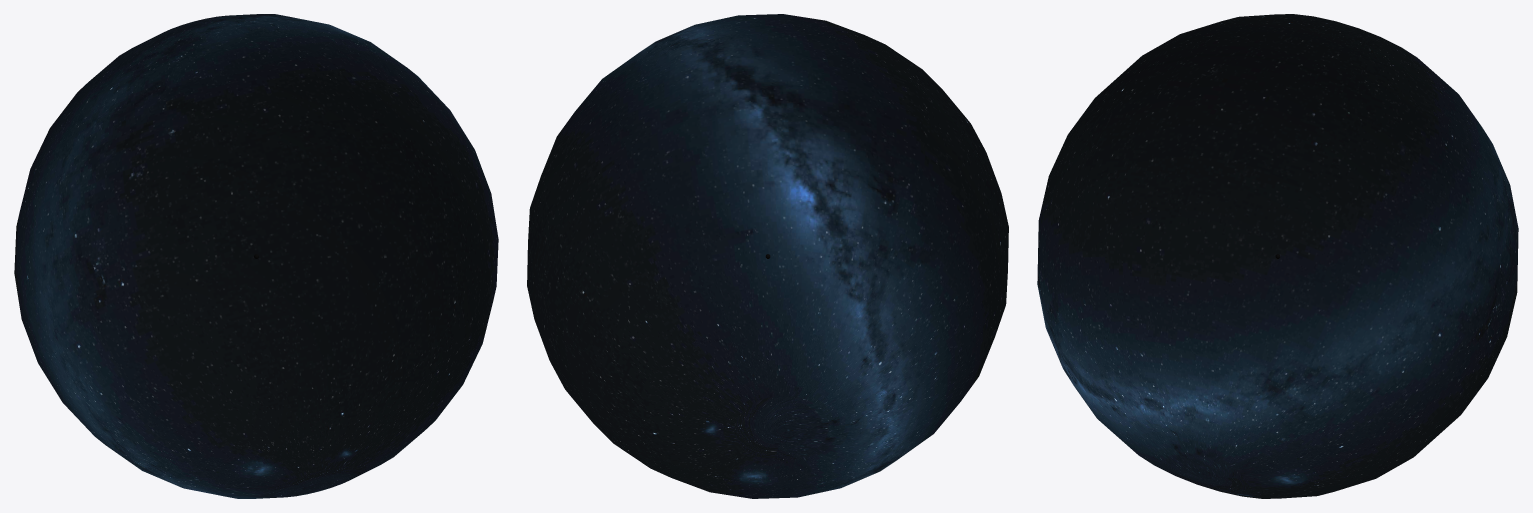
Rendered from Sky3.glb.
3 renders of one model, left to right at view 1: azimuth 30°, elevation 25°; view 2: azimuth 150°, elevation 25°; view 3: azimuth 270°, elevation 25°, orthographic.
Visible parts, largest first — view 1: Sphere_0; view 2: Sphere_0; view 3: Sphere_0.
Boxes of the visible parts, left/top/right/bottom form: Sphere_0: left=14, top=14, right=498, bottom=498; Sphere_0: left=527, top=14, right=1008, bottom=498; Sphere_0: left=1037, top=14, right=1518, bottom=498.
Bounding box in the file's own units: 61.06 × 61.4 × 60.9.
3 materials, 2 textured.
